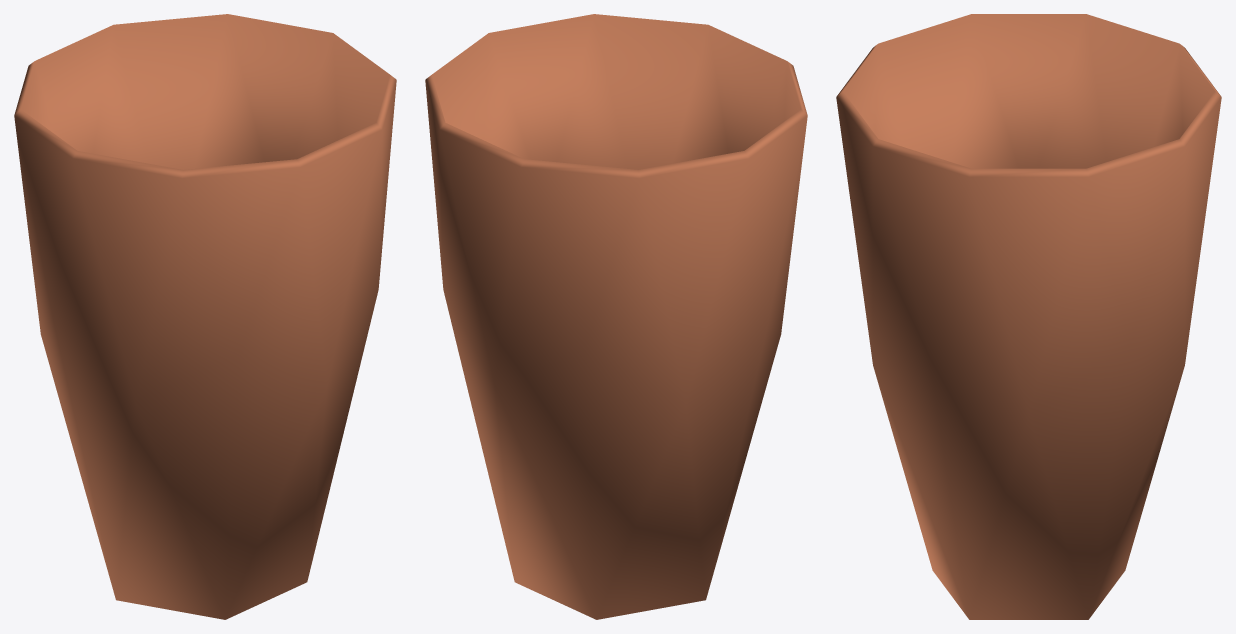
File: glass-type-02.obj
The picture shows the model from 3 angles, left to right: view 1: azimuth 30°, elevation 25°; view 2: azimuth 150°, elevation 25°; view 3: azimuth 270°, elevation 25°; orthographic projection.
Visible parts, largest first — view 1: glass-type-02; view 2: glass-type-02; view 3: glass-type-02.
Boxes of the visible parts, <box> form: glass-type-02: <box>14,14,396,619</box>; glass-type-02: <box>425,14,807,619</box>; glass-type-02: <box>836,14,1221,619</box>.
Bounding box in the file's own units: 0.0458 × 0.0677 × 0.0466.
